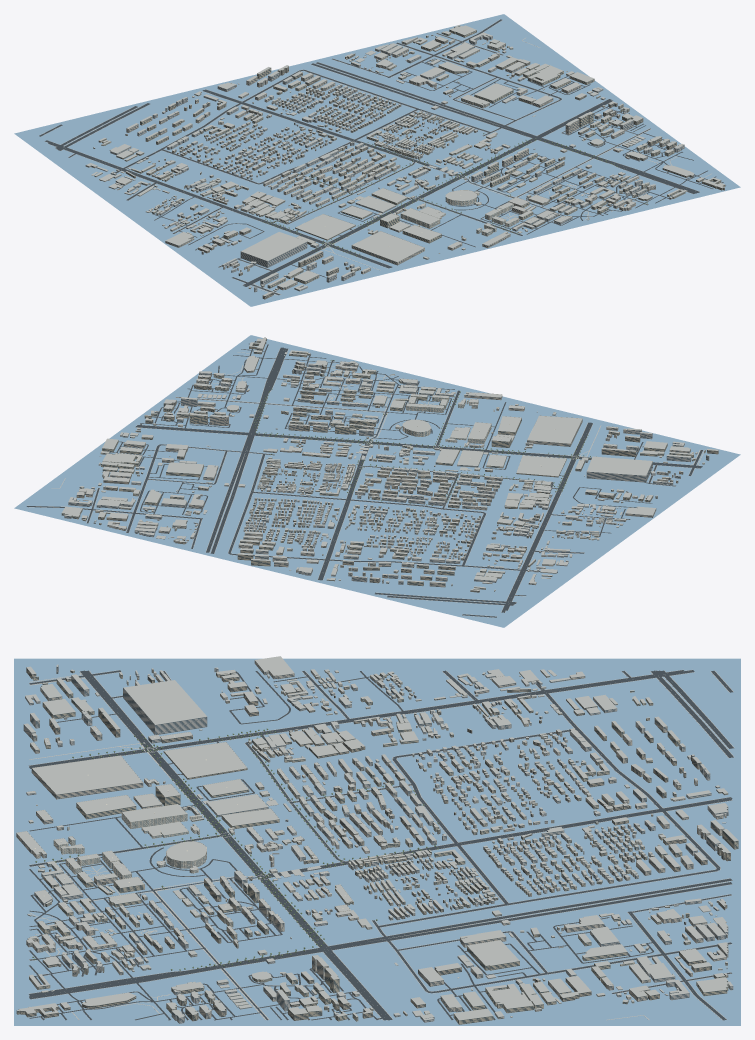
Rendered from Haiju_North_Environment.glb.
3 renders of one model, top to bottom at view 1: azimuth 30°, elevation 25°; view 2: azimuth 150°, elevation 25°; view 3: azimuth 270°, elevation 25°, orthographic. The views are drawn at different scales.
Parts seen in each view (by area): view 1: Ground_7, Roads_5, Roads_6, Buildings_-2_0_4, Buildings_1_2_4, Buildings_-1_0_4, Buildings_-1_1_4, Buildings_0_1_4, Buildings_-2_1_4, Buildings_-1_-1_4, Buildings_-1_2_4, Buildings_0_0_4 (+31 smaller); view 2: Ground_7, Roads_5, Roads_6, Buildings_-2_0_4, Buildings_1_2_4, Buildings_-1_1_4, Buildings_-1_0_4, Buildings_0_1_4, Buildings_-2_1_4, Buildings_-1_2_4, Buildings_-1_-1_4, Buildings_0_0_4 (+31 smaller); view 3: Ground_7, Roads_5, Roads_6, Buildings_-2_0_4, Buildings_1_2_4, Buildings_-1_0_4, Buildings_-1_1_4, Buildings_-1_-1_4, Buildings_-2_1_4, Buildings_0_1_4, Buildings_0_0_4, Buildings_-1_2_4 (+53 smaller).
Boxes of the visible parts, x1=… form: Ground_7: x1=14, y1=14, x2=740, y2=306; Roads_5: x1=39, y1=19, x2=725, y2=295; Roads_6: x1=41, y1=19, x2=711, y2=295; Buildings_-2_0_4: x1=191, y1=202, x2=354, y2=263; Buildings_1_2_4: x1=406, y1=32, x2=563, y2=100; Buildings_-1_0_4: x1=309, y1=176, x2=445, y2=233; Buildings_-1_1_4: x1=244, y1=134, x2=399, y2=199; Buildings_0_1_4: x1=351, y1=111, x2=509, y2=173; Buildings_-2_1_4: x1=133, y1=158, x2=289, y2=225; Buildings_-1_-1_4: x1=352, y1=225, x2=481, y2=261; Buildings_-1_2_4: x1=193, y1=90, x2=341, y2=155; Buildings_0_0_4: x1=413, y1=153, x2=569, y2=215; Ground_7: x1=14, y1=335, x2=740, y2=627; Roads_5: x1=26, y1=341, x2=702, y2=617; Roads_6: x1=27, y1=347, x2=703, y2=617; Buildings_-2_0_4: x1=509, y1=455, x2=654, y2=512; Buildings_1_2_4: x1=68, y1=453, x2=211, y2=520; Buildings_-1_1_4: x1=353, y1=467, x2=499, y2=528; Buildings_-1_0_4: x1=399, y1=422, x2=533, y2=481; Buildings_0_1_4: x1=258, y1=438, x2=391, y2=503; Buildings_-2_1_4: x1=445, y1=490, x2=603, y2=555; Buildings_-1_2_4: x1=287, y1=508, x2=436, y2=567; Buildings_-1_-1_4: x1=472, y1=403, x2=582, y2=443; Buildings_0_0_4: x1=303, y1=393, x2=443, y2=457; Ground_7: x1=14, y1=658, x2=740, y2=1025; Roads_5: x1=29, y1=670, x2=733, y2=1020; Roads_6: x1=29, y1=669, x2=734, y2=1020; Buildings_-2_0_4: x1=123, y1=680, x2=312, y2=777; Buildings_1_2_4: x1=467, y1=915, x2=689, y2=1008; Buildings_-1_0_4: x1=122, y1=766, x2=303, y2=843; Buildings_-1_1_4: x1=299, y1=759, x2=490, y2=845; Buildings_-1_-1_4: x1=27, y1=755, x2=142, y2=839; Buildings_-2_1_4: x1=302, y1=679, x2=489, y2=764; Buildings_0_1_4: x1=296, y1=843, x2=490, y2=924; Buildings_0_0_4: x1=103, y1=841, x2=305, y2=922; Buildings_-1_2_4: x1=487, y1=762, x2=676, y2=843.
Bounding box in the file's own units: 2313 × 40.02 × 1936.
15 materials, 4 textured.
